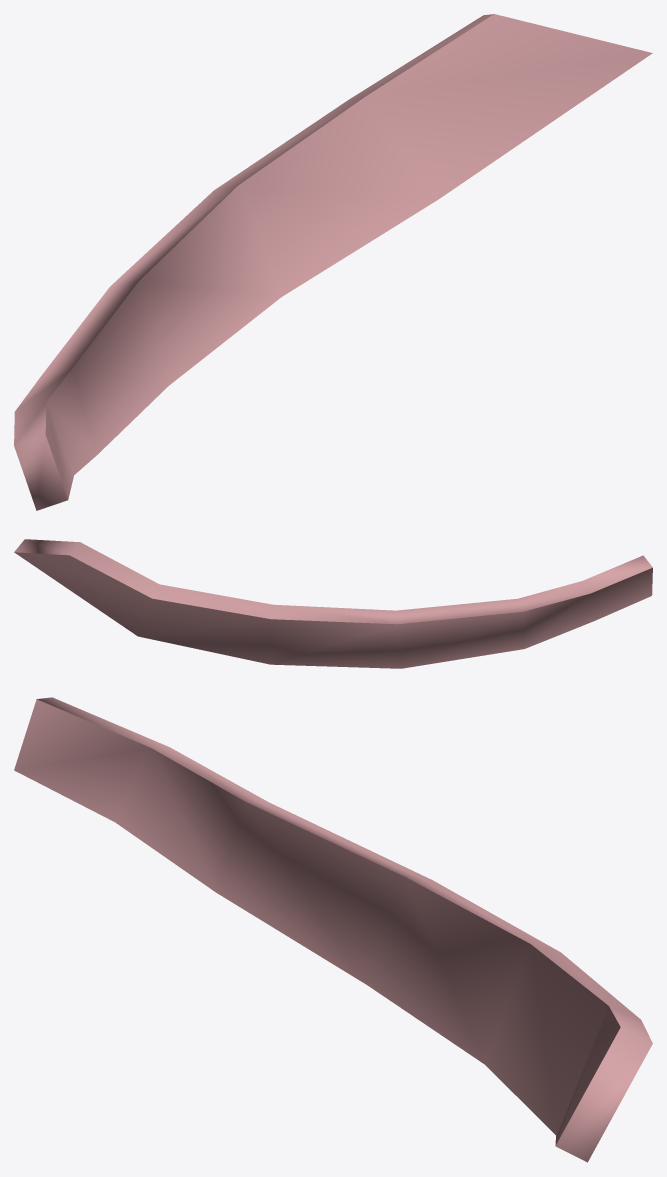
The picture shows the model from 3 angles, top to bottom: view 1: azimuth 30°, elevation 25°; view 2: azimuth 150°, elevation 25°; view 3: azimuth 270°, elevation 25°; orthographic projection. The views are drawn at different scales.
Parts seen in each view (by area): view 1: ZA_f29165d932d74aa1; view 2: ZA_f29165d932d74aa1; view 3: ZA_f29165d932d74aa1.
Part boxes in pixels (x1,y1,x2,y2): ZA_f29165d932d74aa1: [14, 14, 652, 510]; ZA_f29165d932d74aa1: [14, 539, 652, 668]; ZA_f29165d932d74aa1: [14, 697, 652, 1162].
Size of the model in its own units: 0.0903 by 0.0185 by 0.053.
